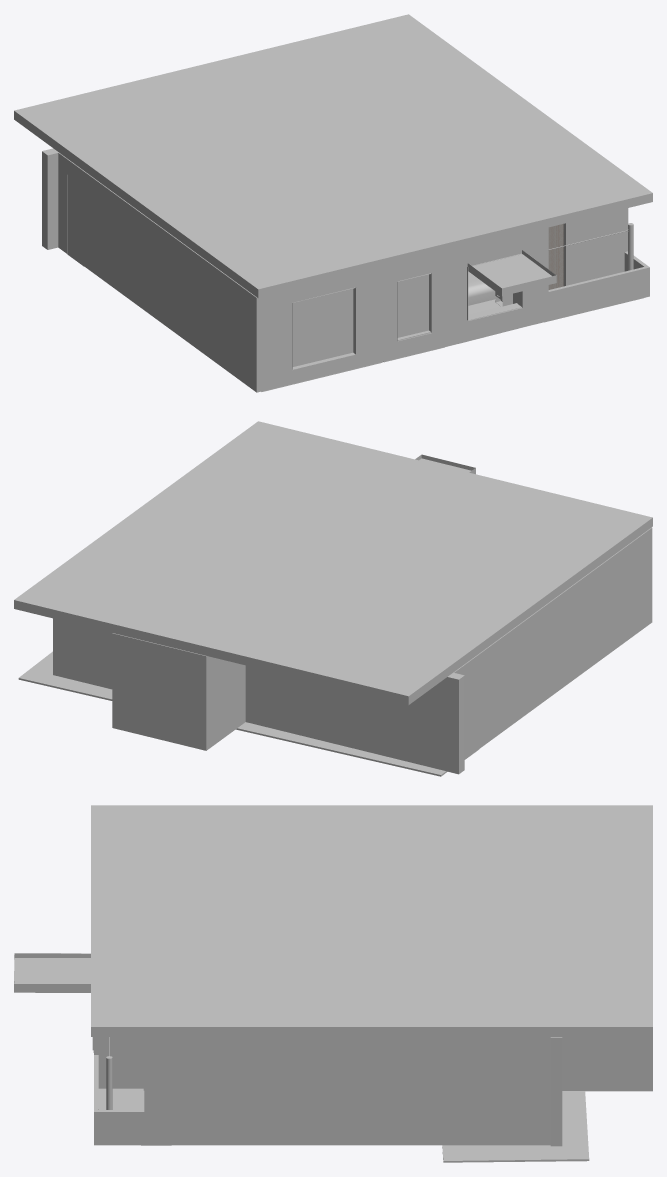
Rendered from Escenario said.fbx.
3 renders of one model, top to bottom at view 1: azimuth 30°, elevation 25°; view 2: azimuth 150°, elevation 25°; view 3: azimuth 270°, elevation 25°, orthographic. The views are drawn at different scales.
Parts seen in each view (by area): view 1: Techo, Escenario, AwningWindow001, Balcon, AwningWindow003, AwningWindow002, Asensor, Cylinder002, PivotDoor005, cama 5; view 2: Techo, Asensor, Escenario, Piso departamento005, Cylinder002; view 3: Techo, Escenario, Asensor, Piso departamento005, AwningWindow003, Balcon, Piso departamento.
Boxes of the visible parts, bbox=[...] form: Techo: bbox=[14, 14, 652, 298]; Escenario: bbox=[58, 152, 628, 392]; AwningWindow001: bbox=[292, 287, 356, 369]; Balcon: bbox=[548, 251, 649, 320]; AwningWindow003: bbox=[467, 250, 556, 321]; AwningWindow002: bbox=[397, 273, 431, 341]; Asensor: bbox=[42, 148, 58, 249]; Cylinder002: bbox=[67, 175, 83, 266]; PivotDoor005: bbox=[548, 223, 563, 289]; cama 5: bbox=[468, 271, 495, 305]; Techo: bbox=[14, 421, 652, 705]; Asensor: bbox=[53, 618, 464, 774]; Escenario: bbox=[453, 527, 652, 748]; Piso departamento005: bbox=[18, 651, 447, 776]; Cylinder002: bbox=[464, 670, 479, 759]; Techo: bbox=[91, 805, 652, 1036]; Escenario: bbox=[93, 1037, 451, 1145]; Asensor: bbox=[451, 1037, 652, 1146]; Piso departamento005: bbox=[442, 1091, 589, 1162]; AwningWindow003: bbox=[14, 953, 93, 1050]; Balcon: bbox=[94, 1055, 144, 1145]; Piso departamento: bbox=[98, 1088, 144, 1109].
Bounding box in the file's own units: 4440 × 1050 × 4948.
